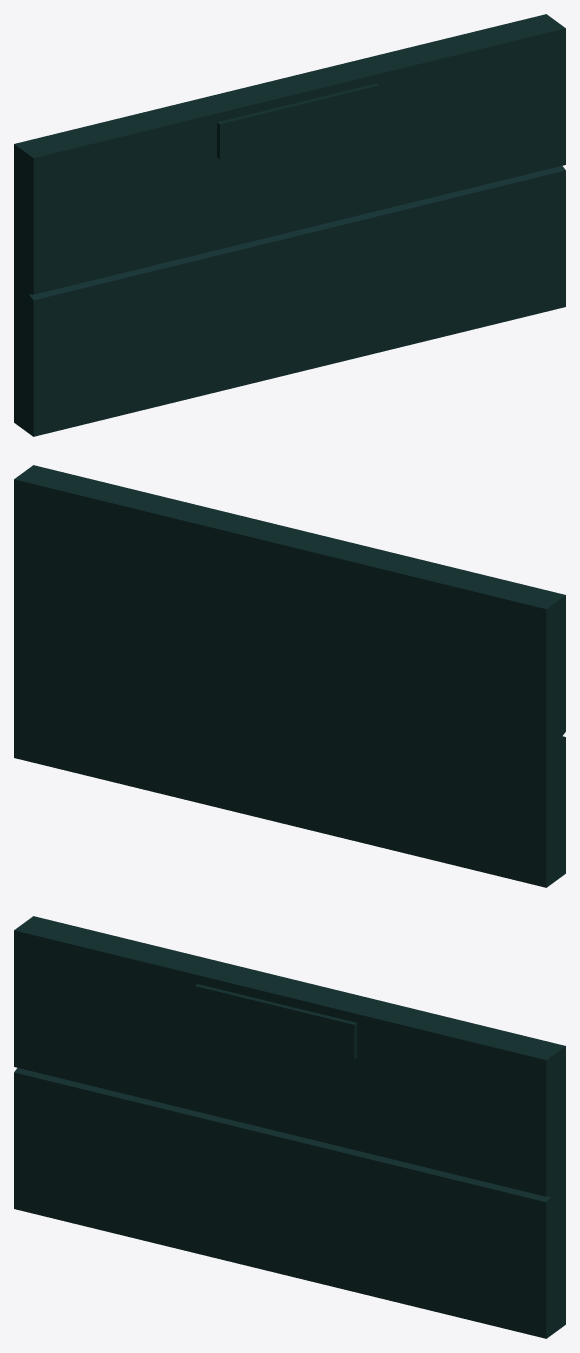
The model's file is Pared2.FBX.
3 views of the same model, one above another, from view 1: azimuth 30°, elevation 25°; view 2: azimuth 150°, elevation 25°; view 3: azimuth 330°, elevation 25° (orthographic).
Parts seen in each view (by area): view 1: Pared2_LP; view 2: Pared2_LP; view 3: Pared2_LP.
Part boxes in pixels (box(x1,y1,x2,y2)): Pared2_LP: box(14, 14, 565, 436); Pared2_LP: box(14, 465, 565, 887); Pared2_LP: box(14, 916, 565, 1338).
Size of the model in its own units: 157 by 78.74 by 11.42.
